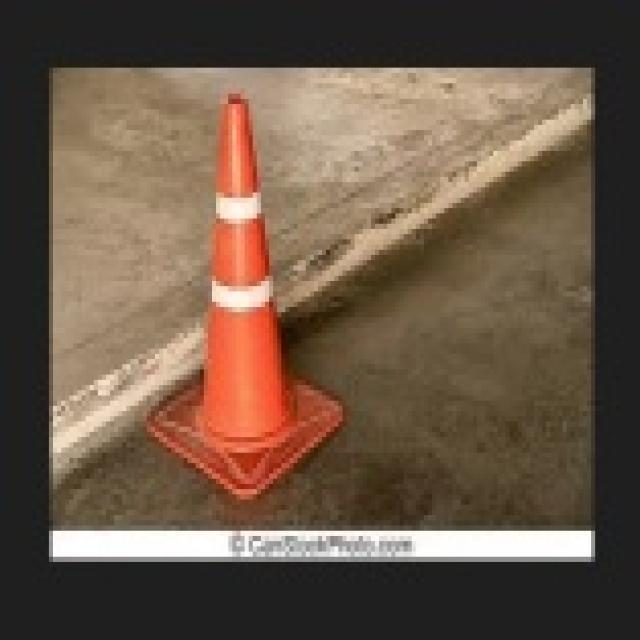cone: (155, 140, 342, 504)
